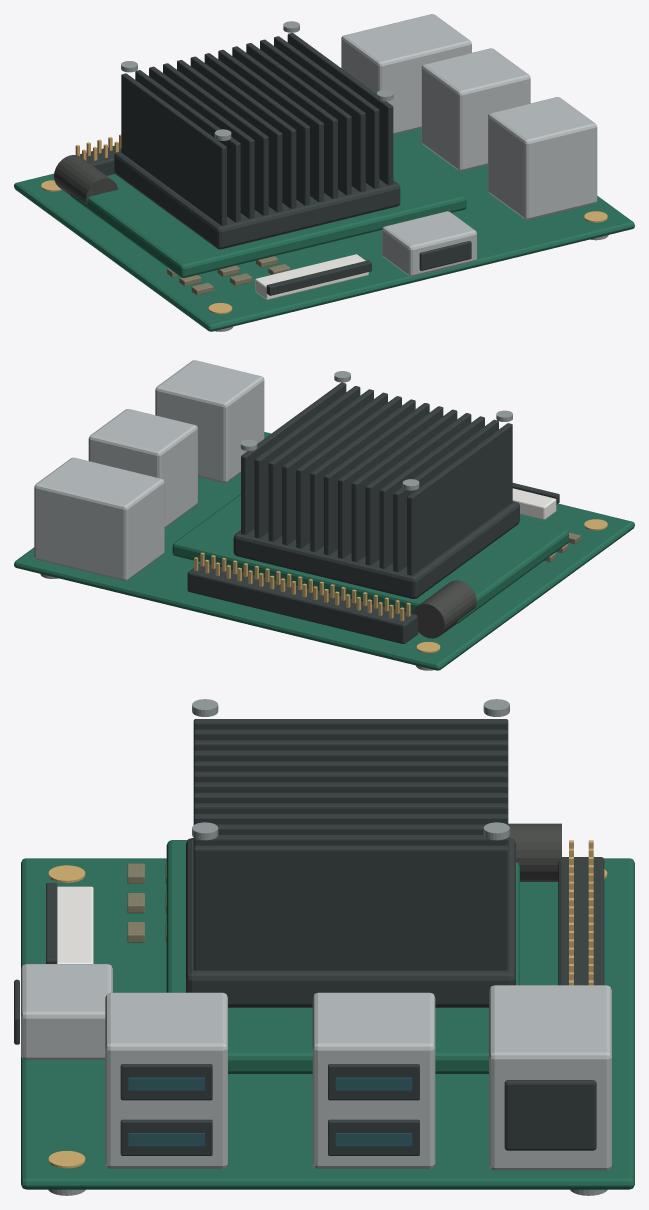
Rendered from nano.glb.
3 renders of one model, top to bottom at view 1: azimuth 30°, elevation 25°; view 2: azimuth 150°, elevation 25°; view 3: azimuth 270°, elevation 25°, orthographic. The views are drawn at different scales.
Visible parts, largest first — view 1: Nano_carrier_PCB, Nano_compute_module, Nano_USB_stack_0, Nano_USB_stack_1, Nano_heatsink_fin_00, Nano_Ethernet, Nano_heatsink_base, Nano_HDMI_shell, Nano_heatsink_fin_05, Nano_heatsink_fin_03, Nano_heatsink_fin_04, Nano_heatsink_fin_10 (+13 smaller); view 2: Nano_carrier_PCB, Nano_Ethernet, Nano_compute_module, Nano_heatsink_fin_00, Nano_USB_stack_0, Nano_heatsink_base, Nano_USB_stack_1, Nano_GPIO_header, Nano_heatsink_fin_04, Nano_heatsink_fin_11, Nano_heatsink_fin_03, Nano_heatsink_fin_09 (+10 smaller); view 3: Nano_carrier_PCB, Nano_heatsink_fin_12, Nano_Ethernet, Nano_USB_stack_1, Nano_USB_stack_0, Nano_compute_module, Nano_heatsink_base, Nano_HDMI_shell, Nano_Ethernet_socket, Nano_GPIO_header, Nano_heatsink_fin_03, Nano_heatsink_fin_05 (+21 smaller).
Part boxes in pixels (x1,y1,x2,y2): Nano_carrier_PCB: (14,128,634,331); Nano_compute_module: (70,144,466,277); Nano_USB_stack_0: (488,97,597,219); Nano_USB_stack_1: (421,48,530,171); Nano_heatsink_fin_00: (121,73,226,225); Nano_Ethernet: (341,14,471,134); Nano_heatsink_base: (114,151,400,249); Nano_HDMI_shell: (382,211,476,276); Nano_heatsink_fin_05: (190,56,296,208); Nano_heatsink_fin_03: (163,63,268,215); Nano_heatsink_fin_04: (177,60,282,212); Nano_heatsink_fin_10: (260,39,365,191); Nano_carrier_PCB: (14,432,634,670); Nano_Ethernet: (34,457,164,580); Nano_compute_module: (172,494,568,623); Nano_heatsink_fin_00: (407,423,512,575); Nano_USB_stack_0: (155,360,264,483); Nano_heatsink_base: (233,501,519,598); Nano_USB_stack_1: (88,409,197,527); Nano_GPIO_header: (187,563,418,643); Nano_heatsink_fin_04: (351,409,457,561); Nano_heatsink_fin_11: (254,386,360,538); Nano_heatsink_fin_03: (365,413,471,565); Nano_heatsink_fin_09: (282,392,387,545); Nano_carrier_PCB: (21,858,634,1189); Nano_heatsink_fin_12: (193,845,508,970); Nano_Ethernet: (489,985,611,1170); Nano_USB_stack_1: (312,992,435,1168); Nano_USB_stack_0: (105,992,227,1168); Nano_compute_module: (166,840,519,1073); Nano_heatsink_base: (186,838,515,1007); Nano_HDMI_shell: (21,964,112,1059); Nano_Ethernet_socket: (504,1080,596,1150); Nano_GPIO_header: (558,857,604,985); Nano_heatsink_fin_03: (193,750,508,762); Nano_heatsink_fin_05: (193,771,508,783).
Bounding box in the file's own units: 0.1 × 0.0335 × 0.0809.
